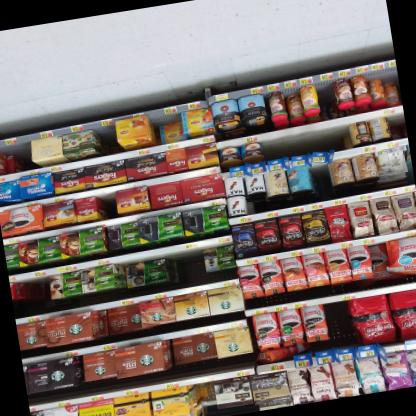empty_space: (259, 118, 350, 162), (304, 150, 337, 204), (171, 243, 207, 288), (92, 119, 119, 155), (8, 135, 34, 171), (94, 187, 119, 220)
